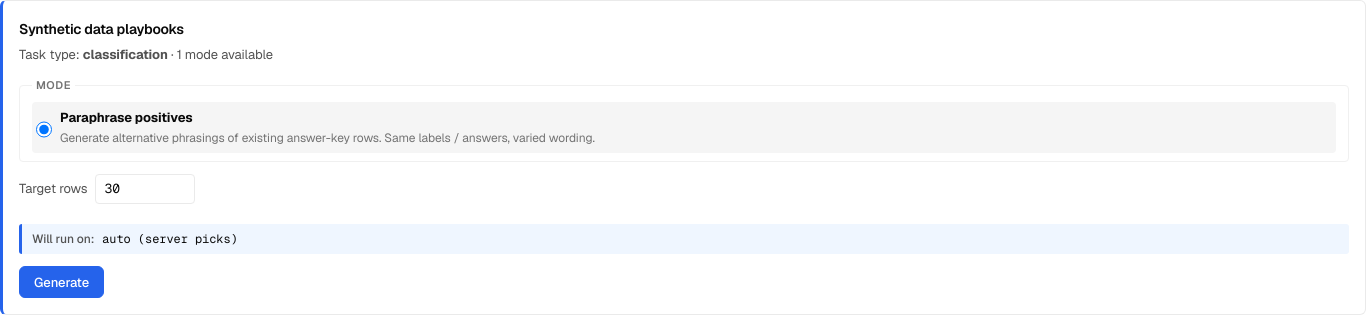
Test: PlaybookPickerPanel › clamps the target-count input to the [1, 500] range
Set to 9999 — should clamp to 500.
Replace the text in the number field with test id "playbook-picker-count" with "9999" at point(146, 189), box [96, 174, 196, 204]
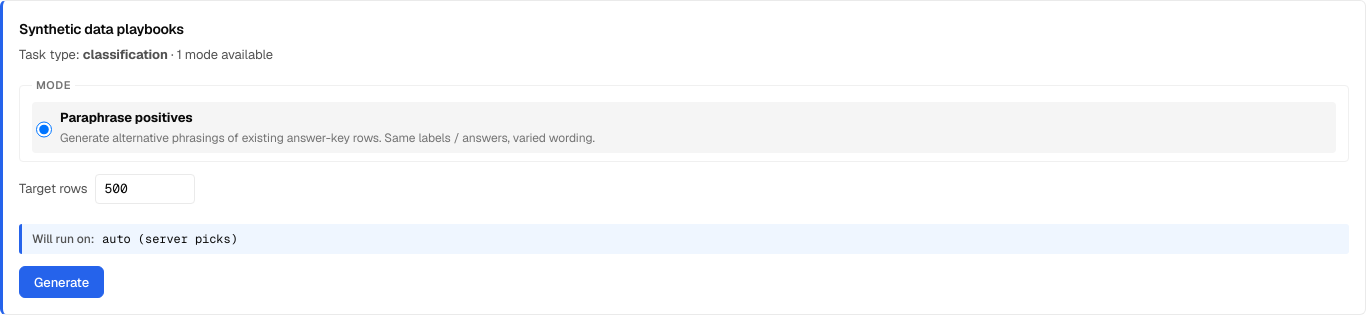
Expected: the number field with test id "playbook-picker-count" holds "500"
Set to 0 — should clamp to 1.
Replace the text in the number field with test id "playbook-picker-count" with "0" at point(146, 189), box [96, 174, 196, 204]
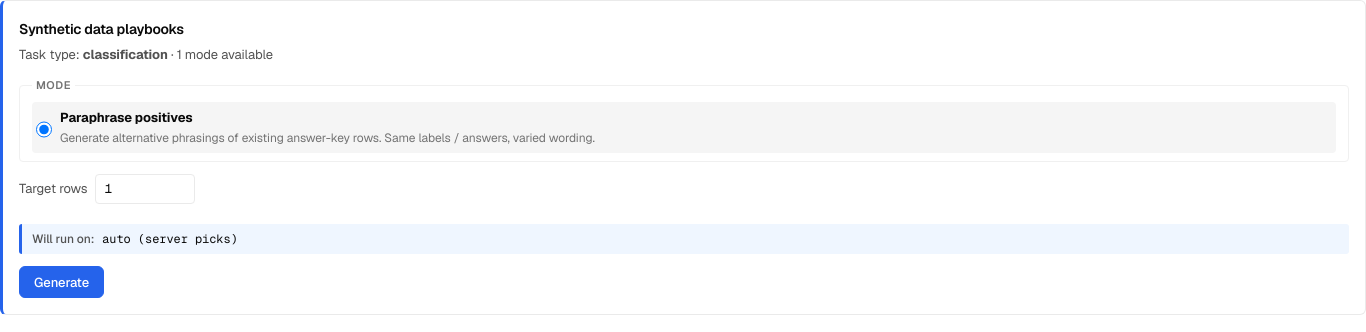
Expected: the number field with test id "playbook-picker-count" holds "1", [96, 174, 196, 204]
